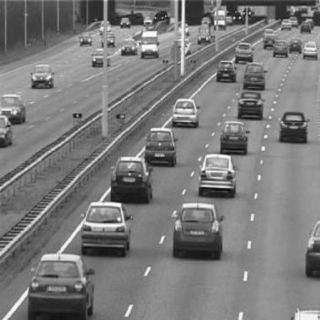other: (167, 194, 229, 261)
